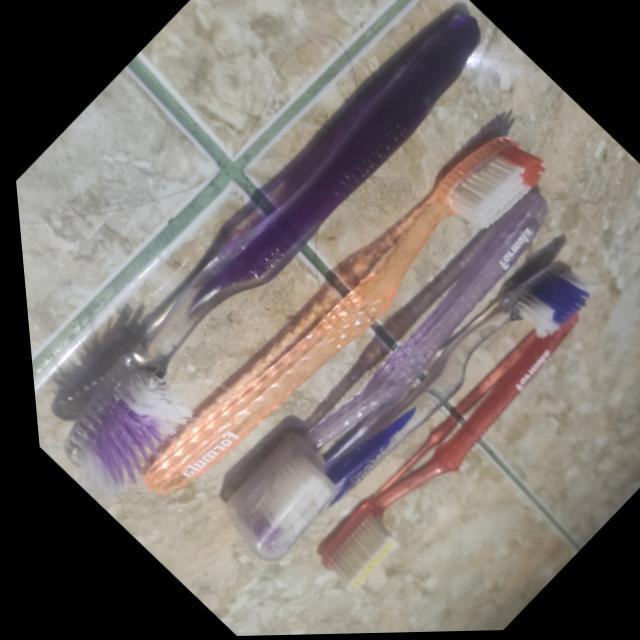toothbrush: (0, 0, 570, 512), (91, 93, 589, 547), (168, 162, 630, 586), (232, 246, 618, 598), (268, 275, 640, 629)
